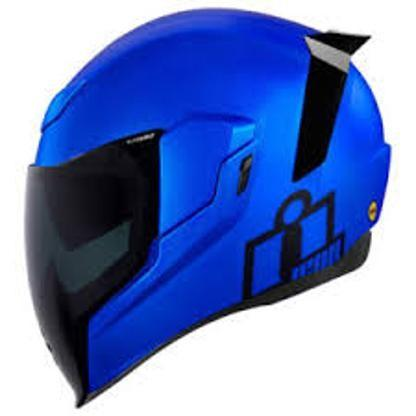not trash: (25, 8, 392, 409)
